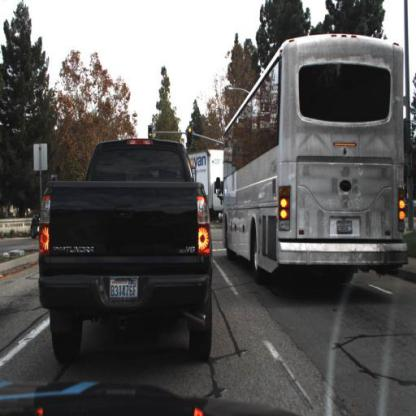car: (42, 139, 210, 353), (28, 212, 40, 240)
trafficLight: (148, 124, 152, 140), (50, 174, 57, 182)
trafficLight-Red: (186, 126, 193, 146)
truck: (221, 36, 404, 286)
